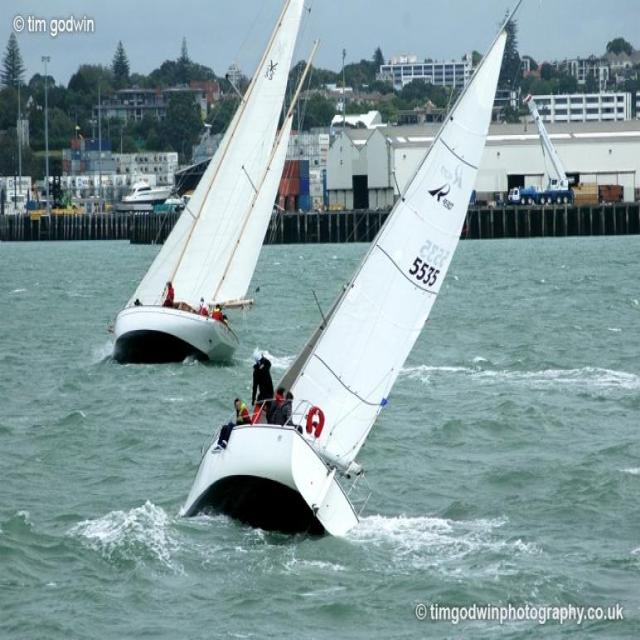sailboat: (177, 28, 518, 536), (116, 0, 277, 367)
